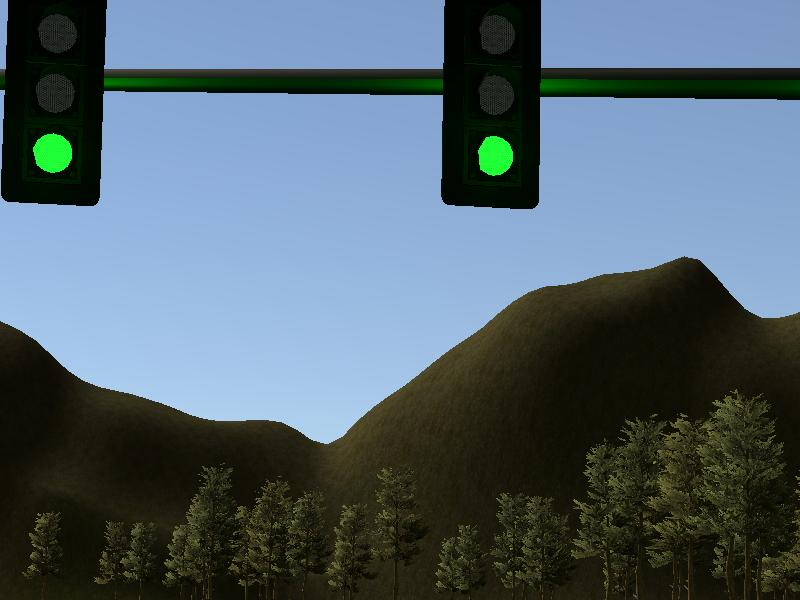Green: (444, 1, 539, 209), (8, 1, 98, 205)
